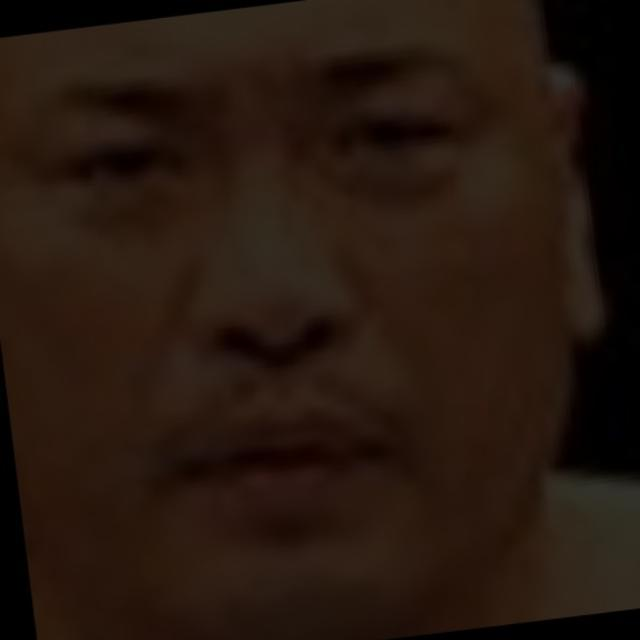Natural: (5, 76, 590, 578)
